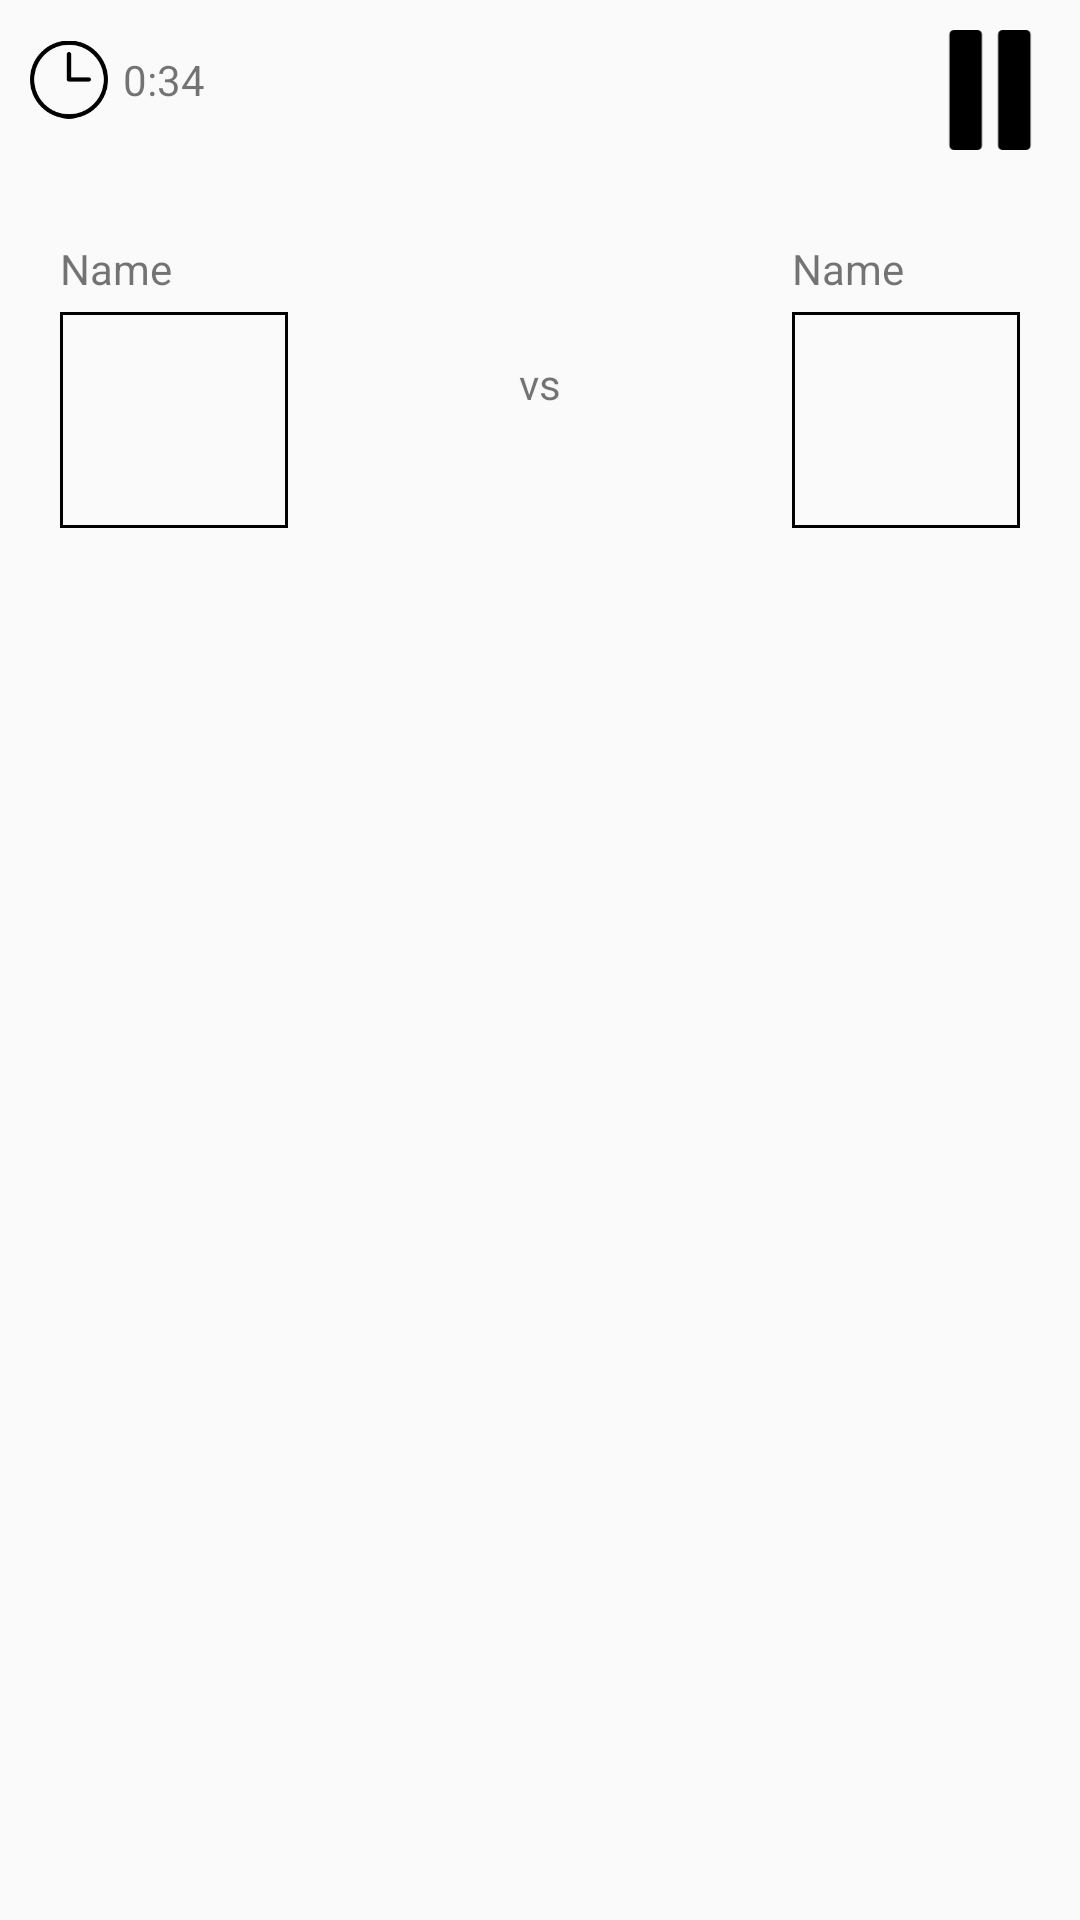

Where icons sit on this 1080w x 1920h app screen, as (x1, y1, x2, y2):
clock: (30, 41, 108, 119)
pause: (949, 30, 1031, 150)
